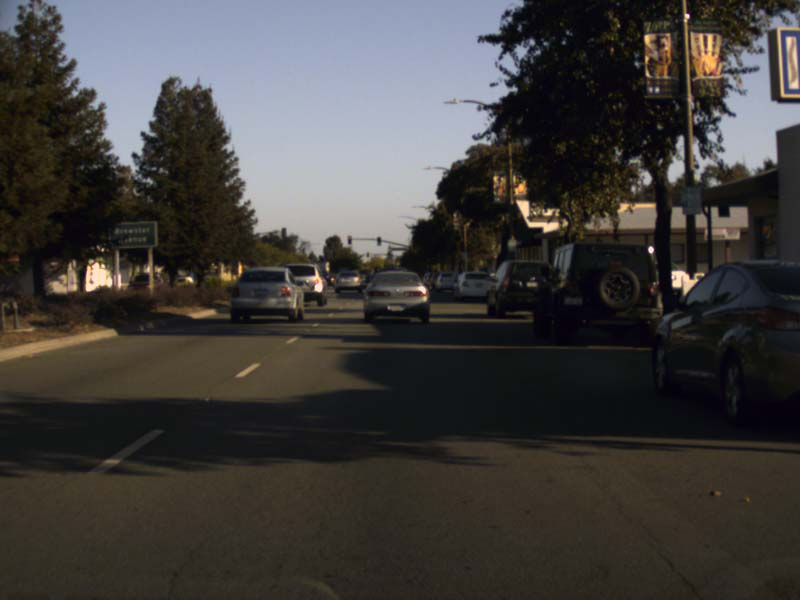Green: (377, 236, 380, 246)
Red: (347, 235, 352, 244)
